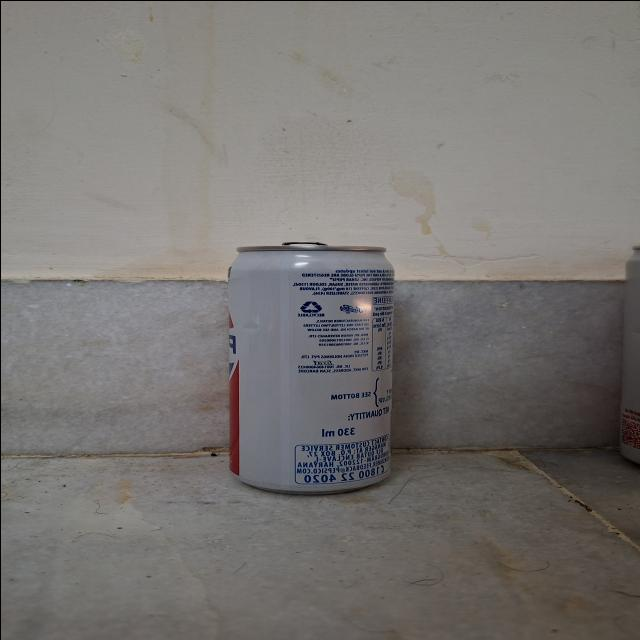Pepsi Retro: (200, 236, 422, 502)
